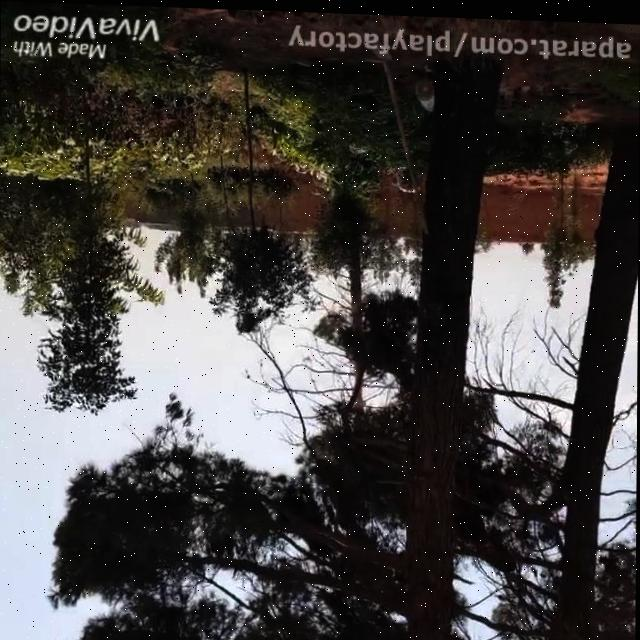drone: (302, 353, 314, 363)
